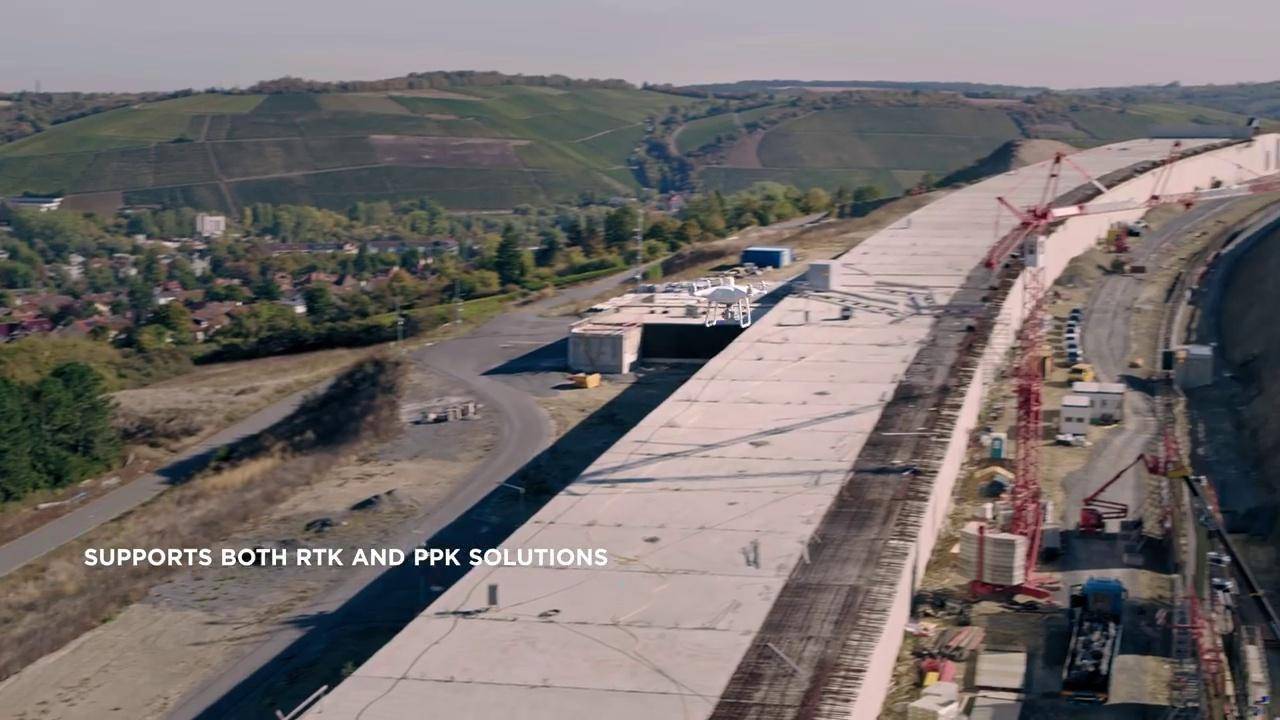drone: (677, 273, 777, 328)
